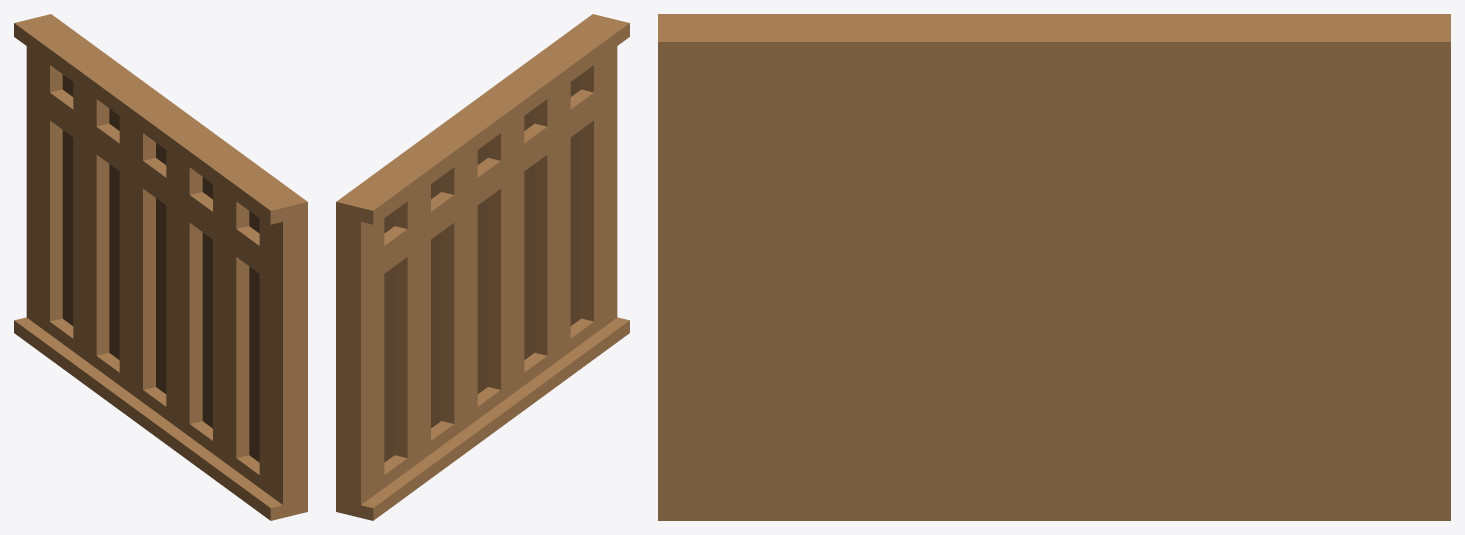
The model's file is F3WallWest.fbx.
3 views of the same model, side by side, from view 1: azimuth 30°, elevation 25°; view 2: azimuth 150°, elevation 25°; view 3: azimuth 270°, elevation 25° (orthographic). The views are drawn at different scales.
Parts seen in each view (by area): view 1: Wall.011; view 2: Wall.011; view 3: Wall.011.
Part boxes in pixels (x1,y1,x2,y2): Wall.011: (14, 14, 307, 520); Wall.011: (336, 14, 629, 520); Wall.011: (658, 14, 1450, 520).
Size of the model in its own units: 7.5 by 60 by 90.
